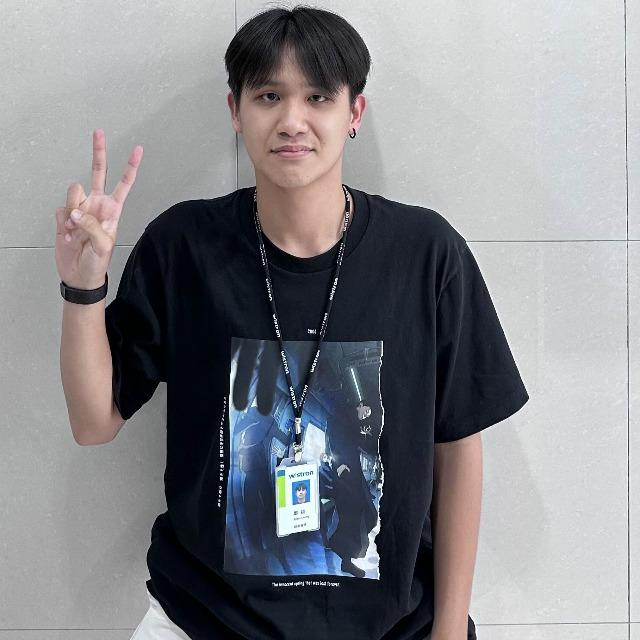NoHelmet: (218, 4, 378, 193)
NoVest: (145, 193, 475, 632)
